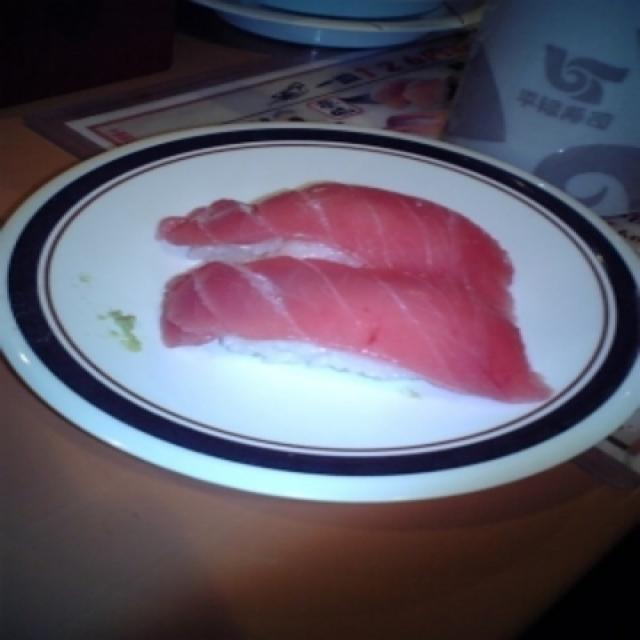Sushi: (138, 178, 554, 414)
